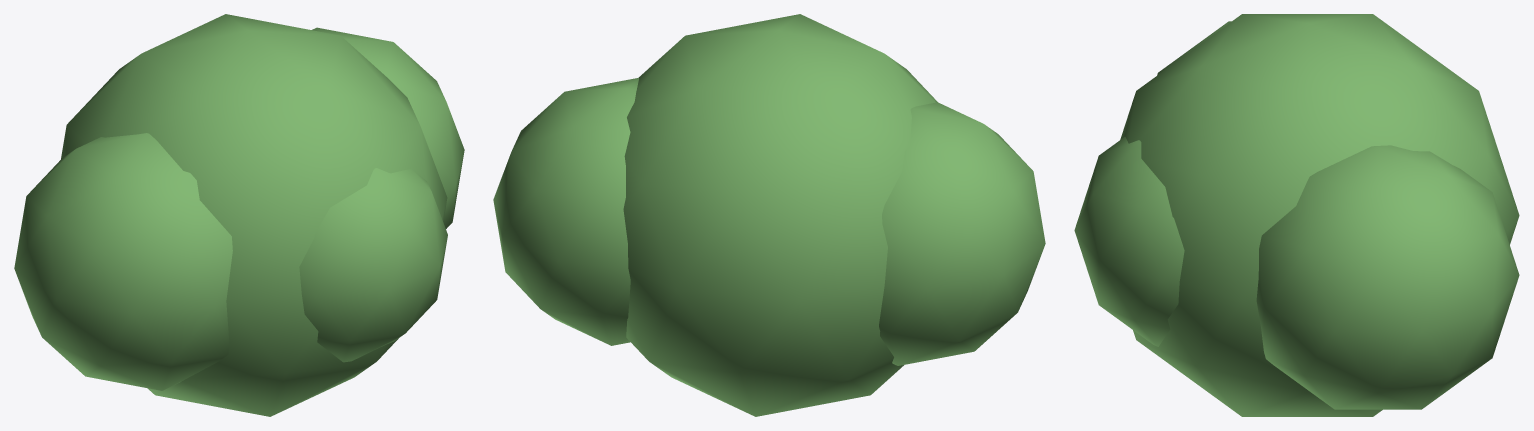
File: bush.glb
The picture shows the model from 3 angles, left to right: view 1: azimuth 30°, elevation 25°; view 2: azimuth 150°, elevation 25°; view 3: azimuth 270°, elevation 25°; orthographic projection. The views are drawn at different scales.
Visible parts, largest first — view 1: Icosphere; view 2: Icosphere; view 3: Icosphere.
Boxes of the visible parts, x1,y1,x2,y2 form: Icosphere: (14,14,464,416); Icosphere: (493,14,1045,416); Icosphere: (1074,14,1519,416).
Bounding box in the file's own units: 0.7804 × 0.6 × 0.63.
